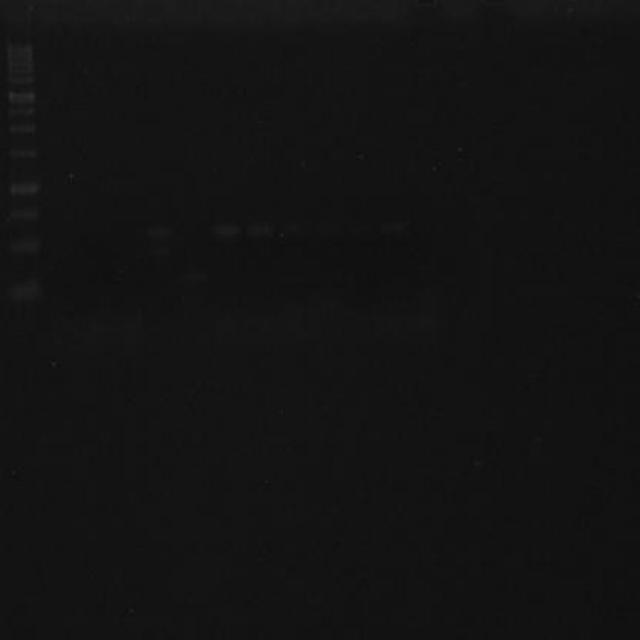B: (138, 220, 182, 246), (242, 218, 275, 244), (208, 218, 242, 242)
M: (0, 23, 55, 374)
P: (6, 281, 42, 307), (8, 235, 42, 260), (7, 178, 41, 199), (7, 204, 42, 223), (7, 146, 38, 162), (7, 89, 36, 105), (9, 122, 37, 136), (7, 105, 36, 118), (7, 74, 35, 86), (6, 66, 36, 76), (7, 58, 36, 68), (7, 42, 36, 52), (7, 52, 36, 58)
